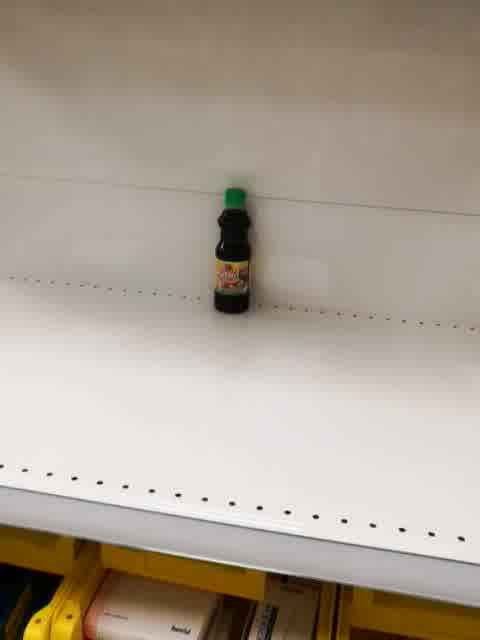cookingoil: (211, 185, 254, 317)
